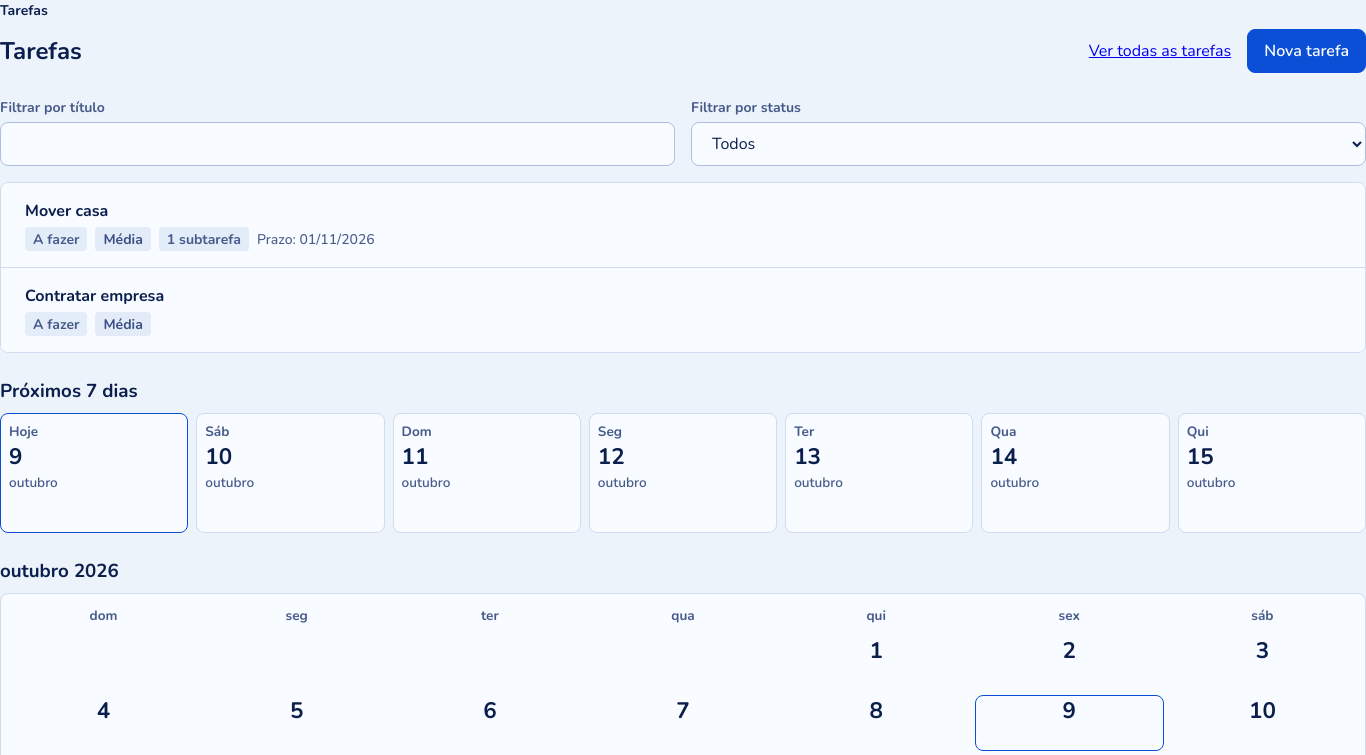
Test: TasksPage › clicar no pai no breadcrumb volta para o detalhe do pai
Click the button "Contratar empresa A fazer Média" at (95, 296), box [1,268,1365,352]
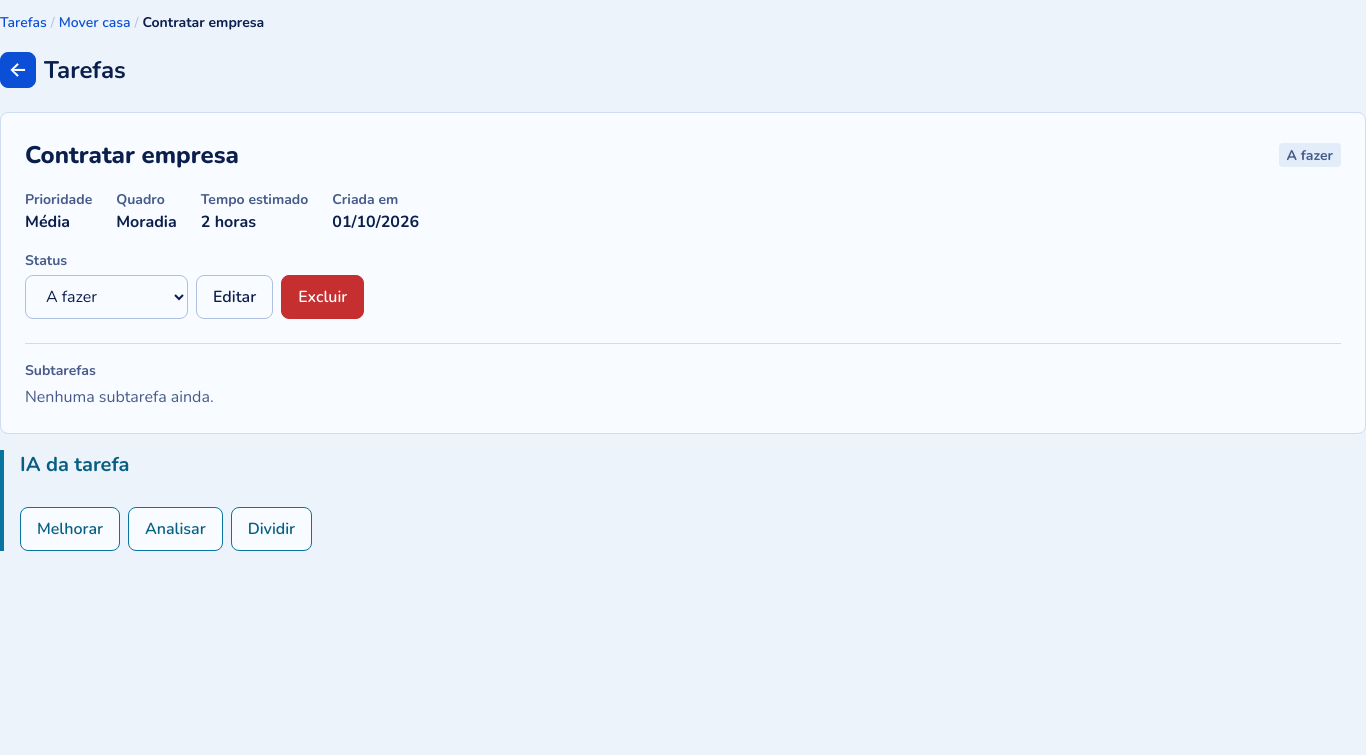
Click the button "Mover casa" at (95, 22), box [59,0,130,44]
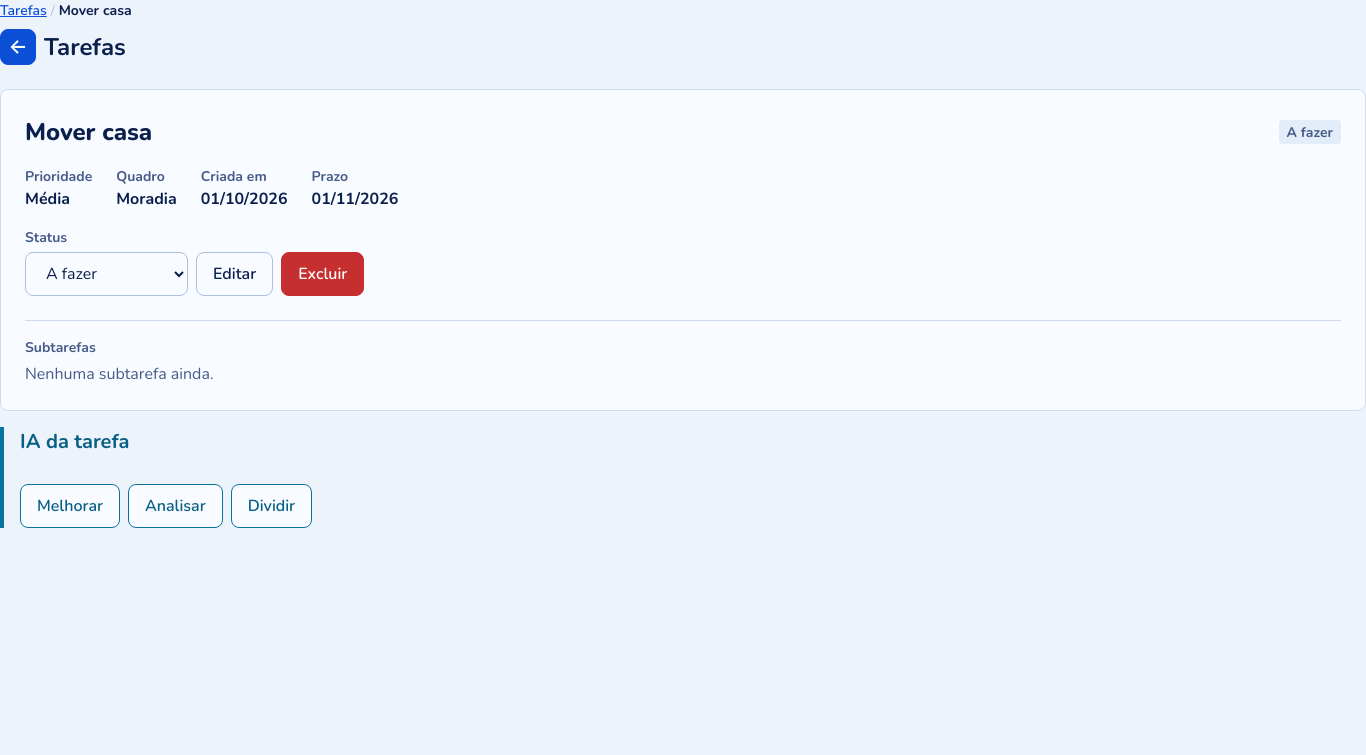
Now the heading "Mover casa" is shown, box [25,114,152,150]
